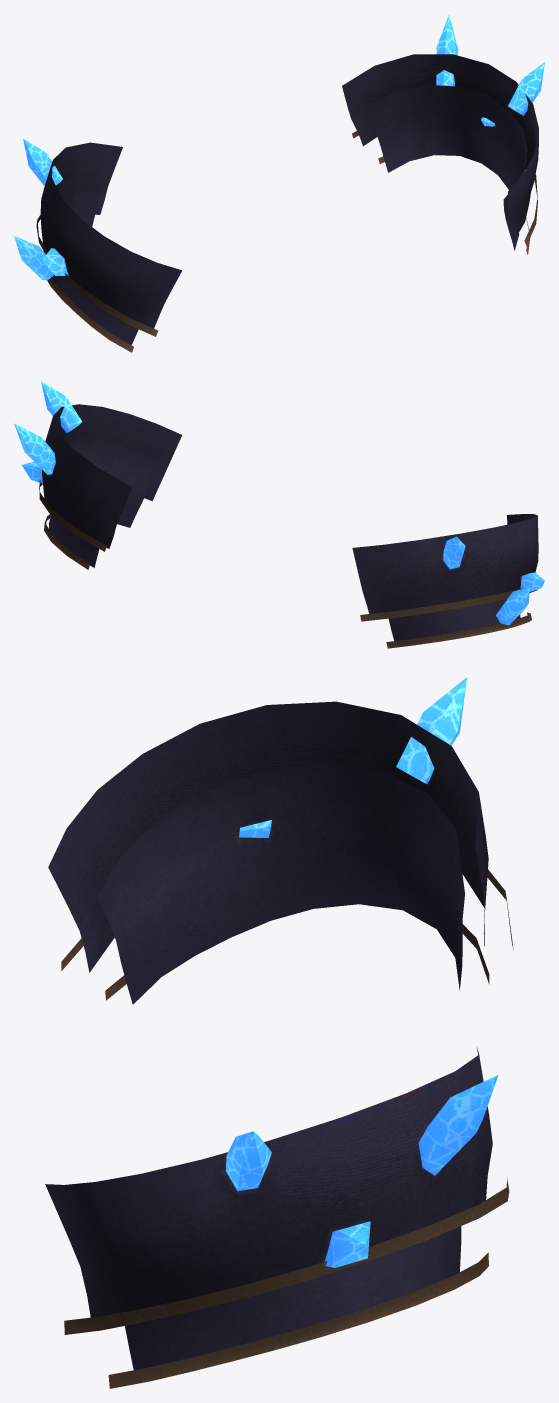
Rendered from Ombreiras_de_Cristal_nivel50.glb.
3 views of the same model, one above another, from view 1: azimuth 30°, elevation 25°; view 2: azimuth 150°, elevation 25°; view 3: azimuth 270°, elevation 25° (orthographic). The views are drawn at different scales.
Parts seen in each view (by area): view 1: ombreiras_de_cristal_nivel50; view 2: ombreiras_de_cristal_nivel50; view 3: ombreiras_de_cristal_nivel50.
Boxes of the visible parts, x1,y1,x2,y2 form: ombreiras_de_cristal_nivel50: (14,14,544,352); ombreiras_de_cristal_nivel50: (14,381,544,648); ombreiras_de_cristal_nivel50: (45,677,513,1388).
Bounding box in the file's own units: 0.6177 × 0.1924 × 0.2461.
Materials: 1 (1 with a texture image).
